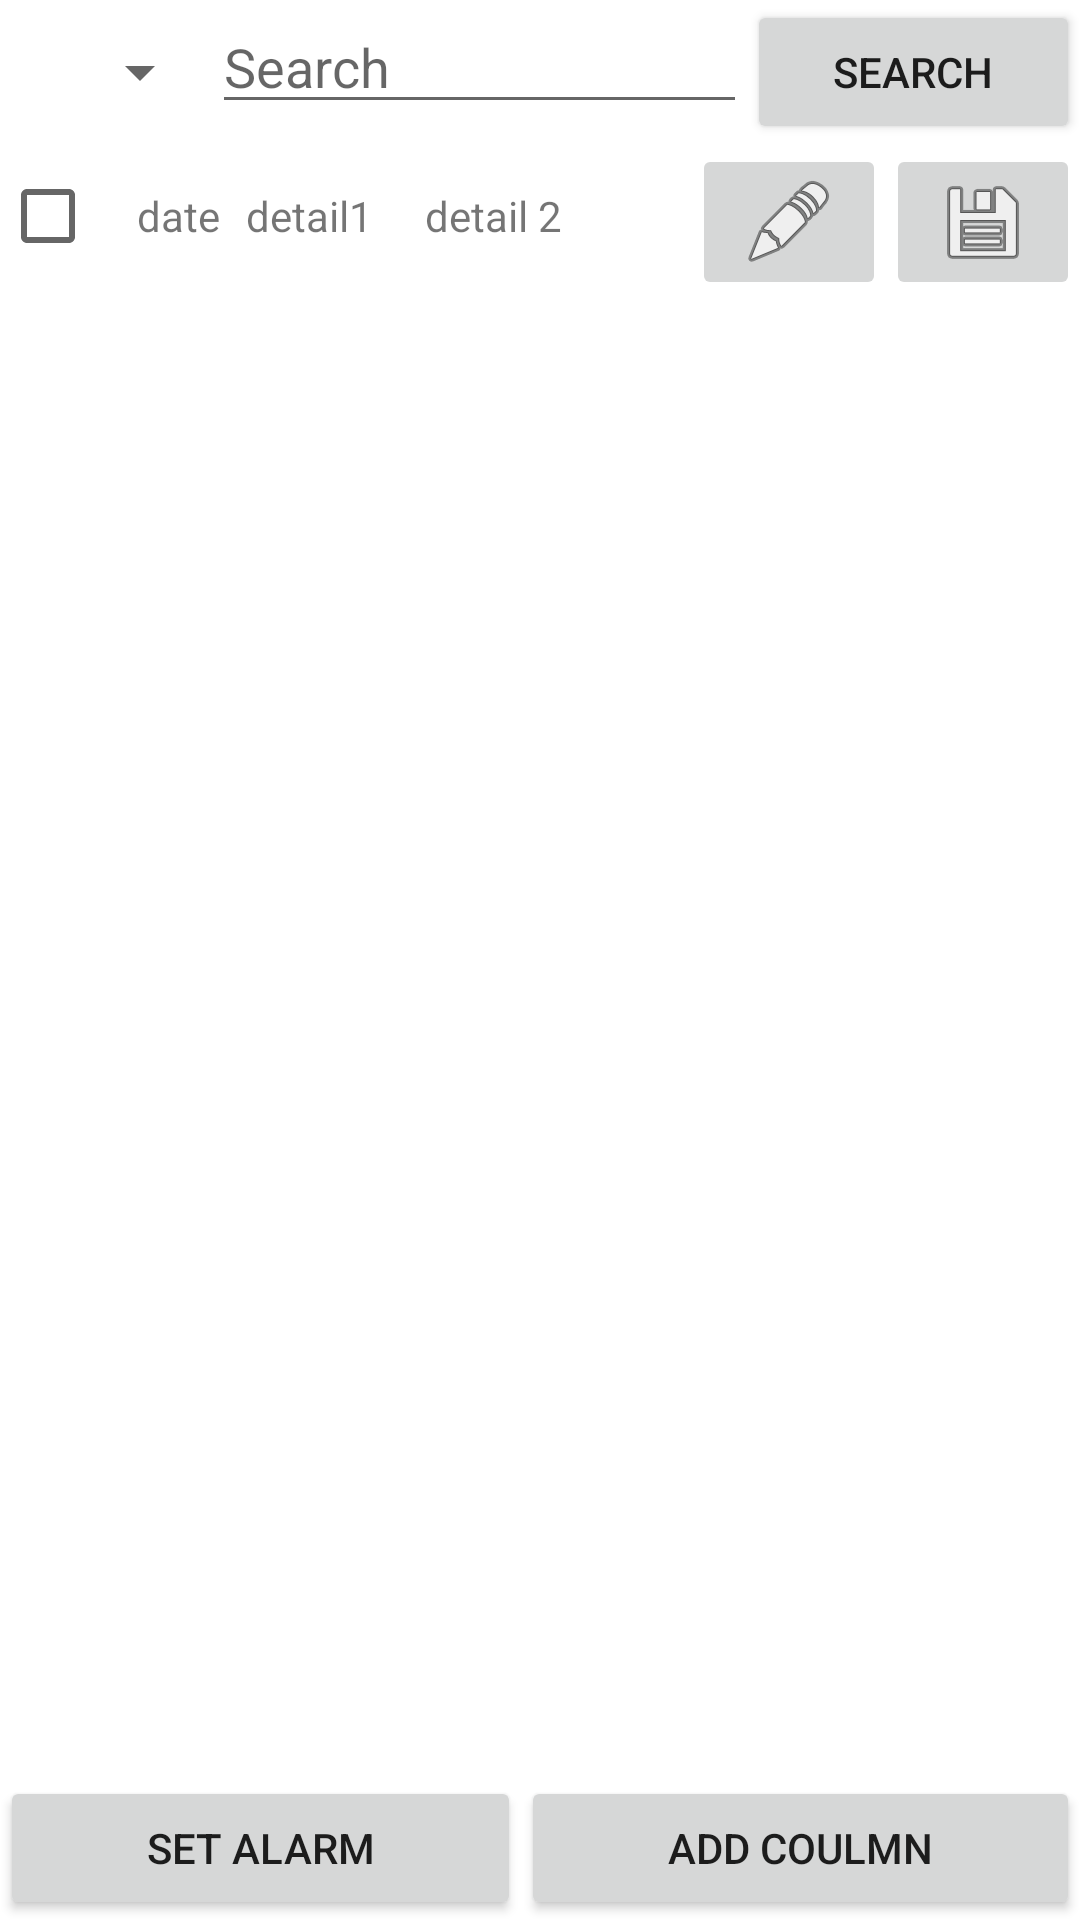

Icon click points for this 1080 x 1920 phone screenshot, format (x,y):
edit: (789,222)
save: (983,222)
